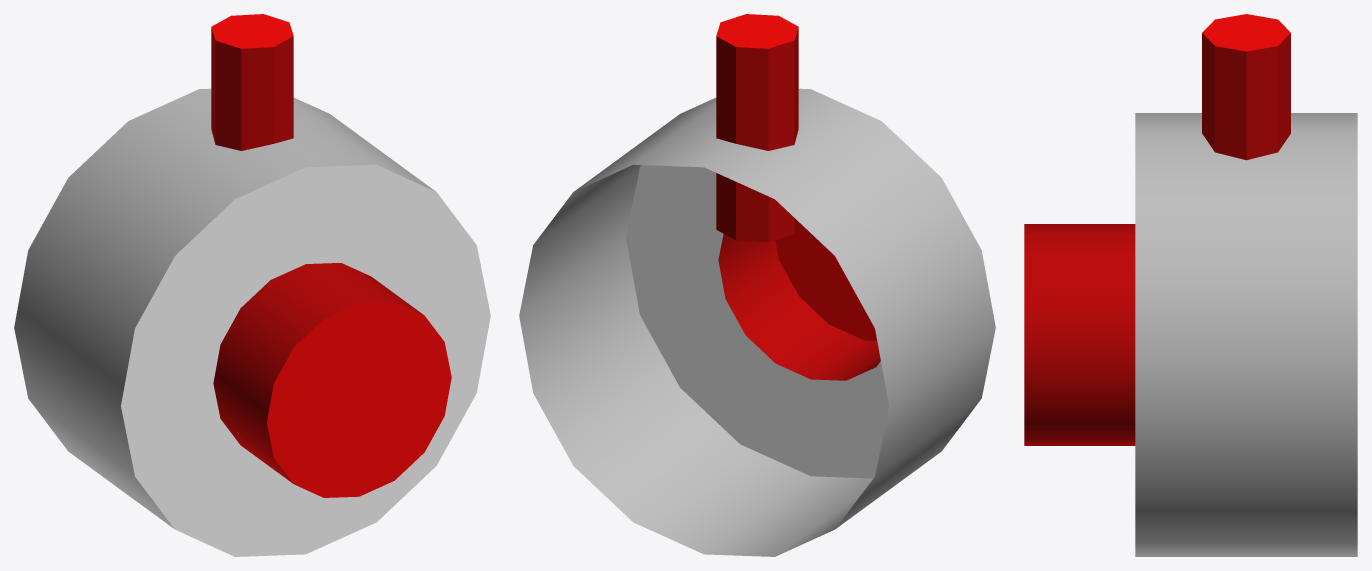
Rendered from turret.obj.
3 renders of one model, left to right at view 1: azimuth 30°, elevation 25°; view 2: azimuth 150°, elevation 25°; view 3: azimuth 270°, elevation 25°, orthographic. The views are drawn at different scales.
Visible parts, largest first — view 1: turret; view 2: turret; view 3: turret.
Part boxes in pixels (<box>): turret: <box>14,14,490,556</box>; turret: <box>519,14,995,556</box>; turret: <box>1024,14,1357,556</box>.
Size of the model in its own units: 2 by 2.5 by 1.5.
1 material, 1 textured.
